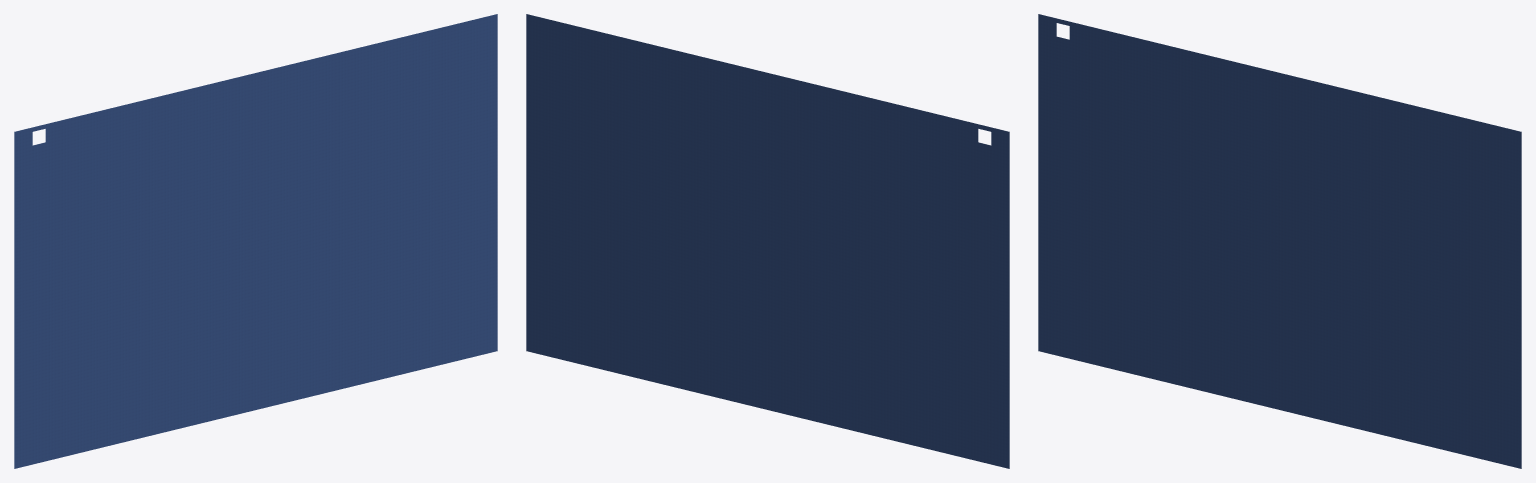
File: floor_1.obj
3 renders of one model, left to right at view 1: azimuth 30°, elevation 25°; view 2: azimuth 150°, elevation 25°; view 3: azimuth 330°, elevation 25°, orthographic.
Parts seen in each view (by area): view 1: floor_1; view 2: floor_1; view 3: floor_1.
Boxes of the visible parts, x1,y1,x2,y2 form: floor_1: (14,14,497,468); floor_1: (526,14,1009,468); floor_1: (1038,14,1521,468).
Bounding box in the file's own units: 150 × 100 × 0.1.
